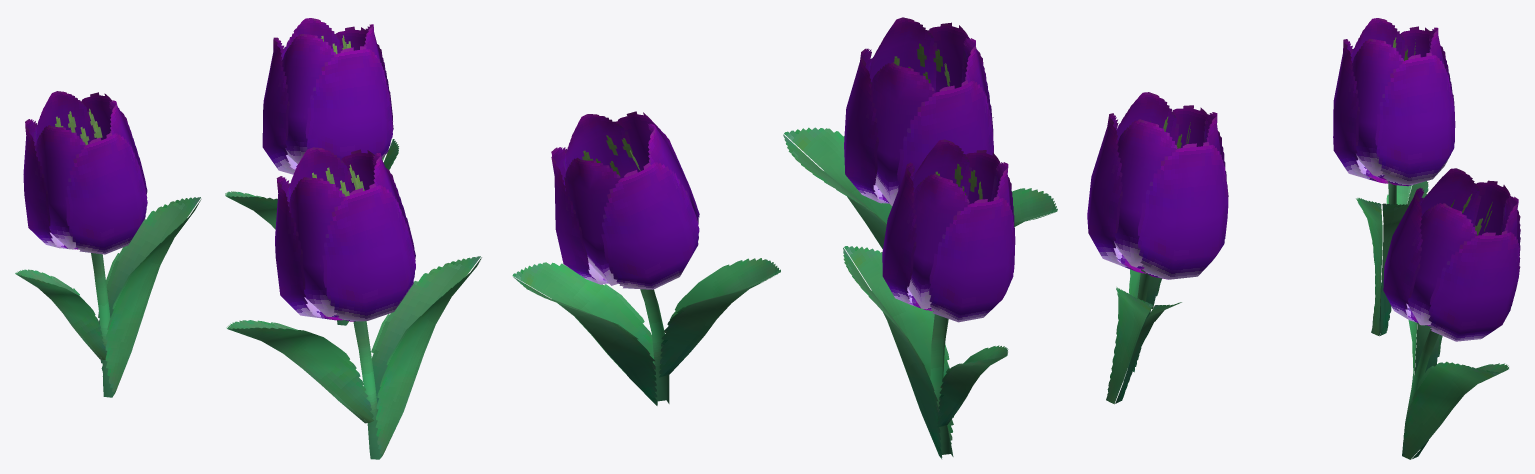
Rendered from purple-tulips.glb.
3 views of the same model, side by side, from view 1: azimuth 30°, elevation 25°; view 2: azimuth 150°, elevation 25°; view 3: azimuth 270°, elevation 25° (orthographic). The views are drawn at different scales.
Size of the model in its own units: 9.86 by 6.64 by 8.68.
Materials: 2 (2 with a texture image).
